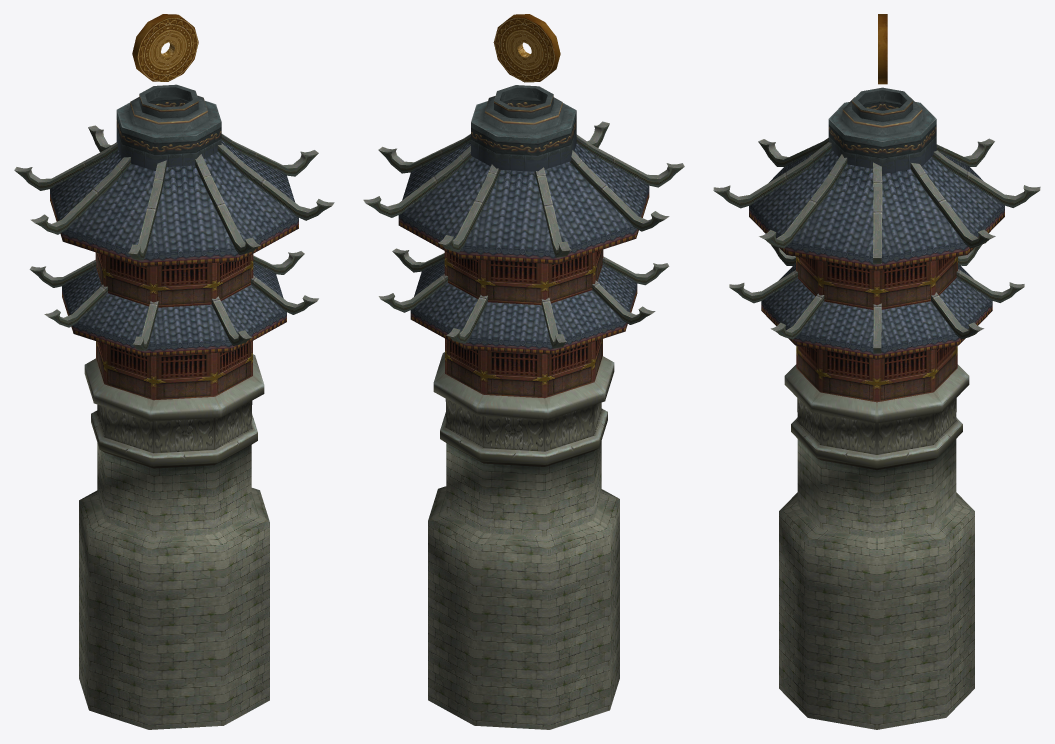
Rendered from Yland3_jz_08 Yland3.FBX.
The picture shows the model from 3 angles, left to right: view 1: azimuth 30°, elevation 25°; view 2: azimuth 150°, elevation 25°; view 3: azimuth 270°, elevation 25°; orthographic projection.
Visible parts, largest first — view 1: Yland3_jz_08 Yland3; view 2: Yland3_jz_08 Yland3; view 3: Yland3_jz_08 Yland3.
Part boxes in pixels (x1,y1,x2,y2): Yland3_jz_08 Yland3: [14, 14, 334, 729]; Yland3_jz_08 Yland3: [363, 14, 684, 729]; Yland3_jz_08 Yland3: [713, 14, 1040, 729].
Bounding box in the file's own units: 4.48 × 10.1 × 4.48.
